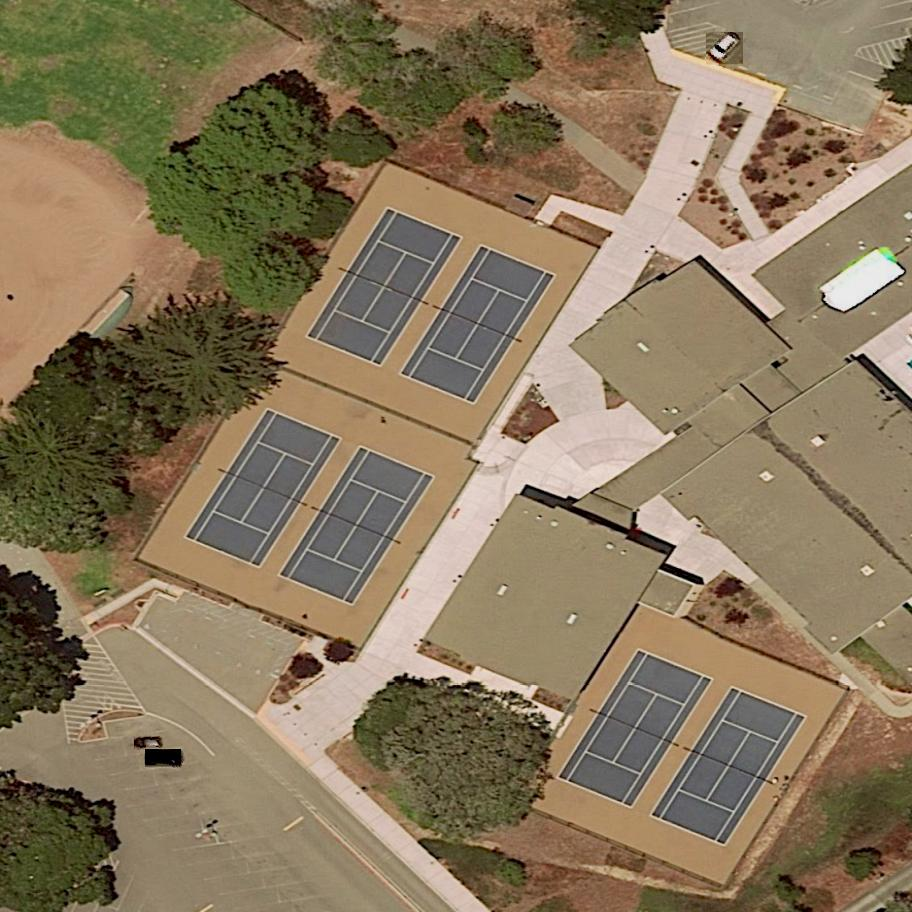small-vehicle: (706, 30, 744, 66), (145, 750, 183, 768), (135, 737, 165, 750)
